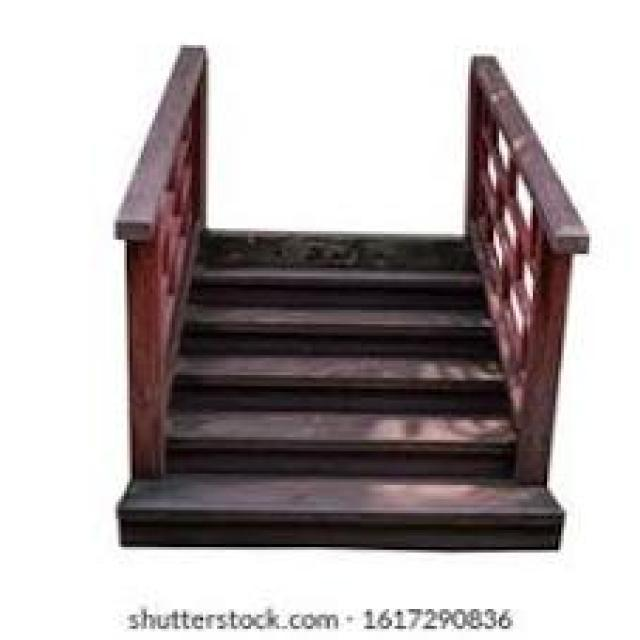stair: (170, 247, 514, 481)
